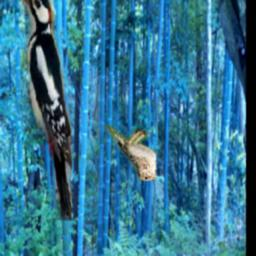Sparrow: (104, 123, 157, 181)
Woodpecker: (18, 0, 72, 221)
